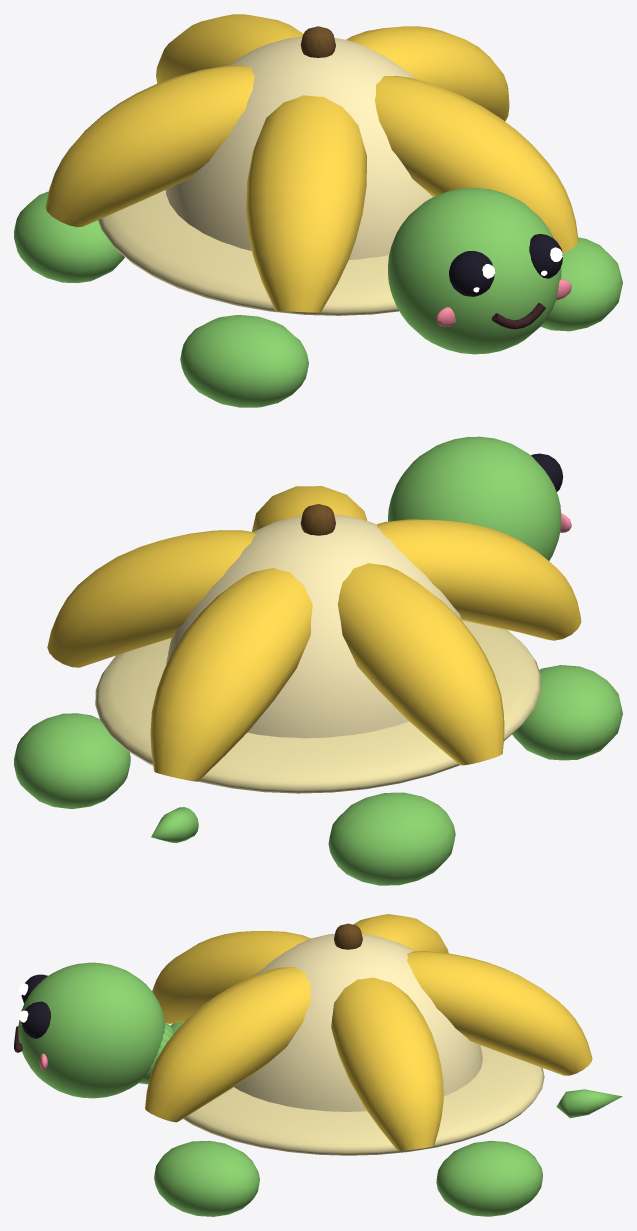
The model's file is pilot_skilpadde_banan_lav.glb.
3 renders of one model, top to bottom at view 1: azimuth 30°, elevation 25°; view 2: azimuth 150°, elevation 25°; view 3: azimuth 270°, elevation 25°, orthographic. The views are drawn at different scales.
Visible parts, largest first — view 1: kropp, hode, bein_vf, bein_vb, bein_hf; view 2: kropp, hode, bein_vb, bein_hb, bein_vf, hale; view 3: kropp, hode, bein_hb, bein_hf, hale.
Boxes of the visible parts, x1=… form: kropp: x1=45, y1=14, x2=578, y2=315; hode: x1=388, y1=188, x2=571, y2=354; bein_vf: x1=180, y1=315, x2=308, y2=407; bein_vb: x1=14, y1=191, x2=124, y2=283; bein_hf: x1=540, y1=237, x2=622, y2=331; kropp: x1=47, y1=486, x2=581, y2=793; hode: x1=388, y1=436, x2=571, y2=560; bein_vb: x1=328, y1=792, x2=455, y2=885; bein_hb: x1=14, y1=713, x2=130, y2=808; bein_vf: x1=512, y1=665, x2=622, y2=760; hale: x1=151, y1=807, x2=198, y2=842; kropp: x1=145, y1=914, x2=592, y2=1155; hode: x1=14, y1=962, x2=173, y2=1098; bein_hb: x1=436, y1=1140, x2=542, y2=1216; bein_hf: x1=154, y1=1140, x2=259, y2=1216; hale: x1=556, y1=1089, x2=622, y2=1118.
Bounding box in the file's own units: 1.34 × 0.7685 × 1.9.
